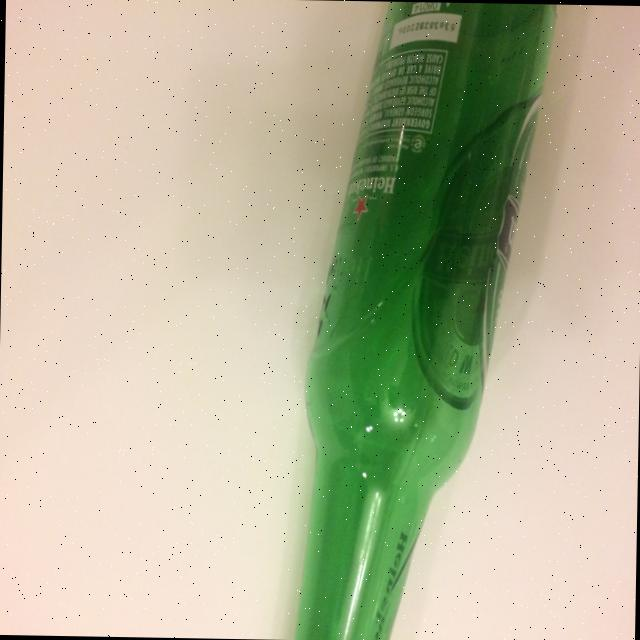glass: (291, 1, 555, 640)
